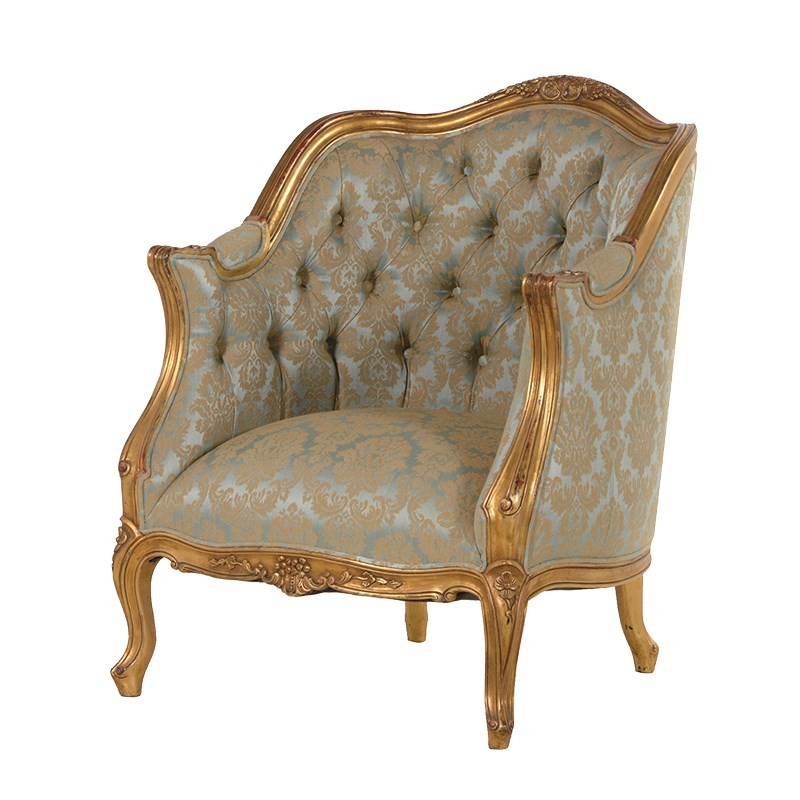chairs: (106, 68, 702, 753)
